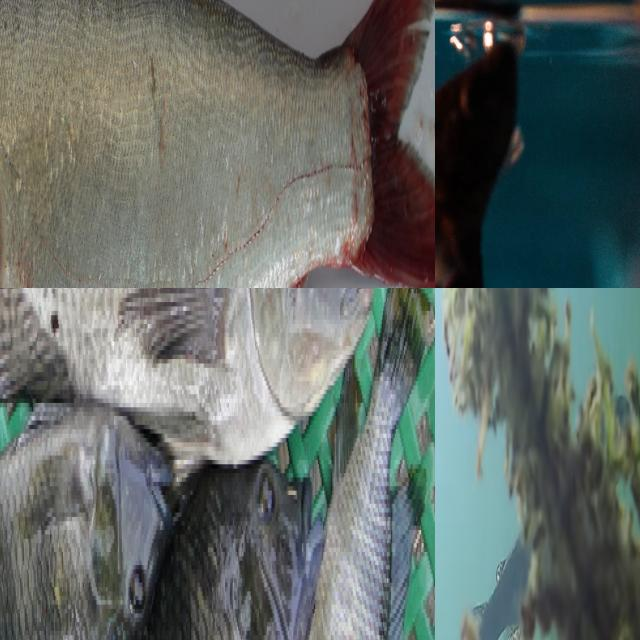fish: (0, 0, 435, 288), (0, 288, 372, 455), (435, 0, 624, 288)
